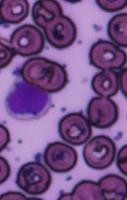L: (4, 80, 52, 120)
